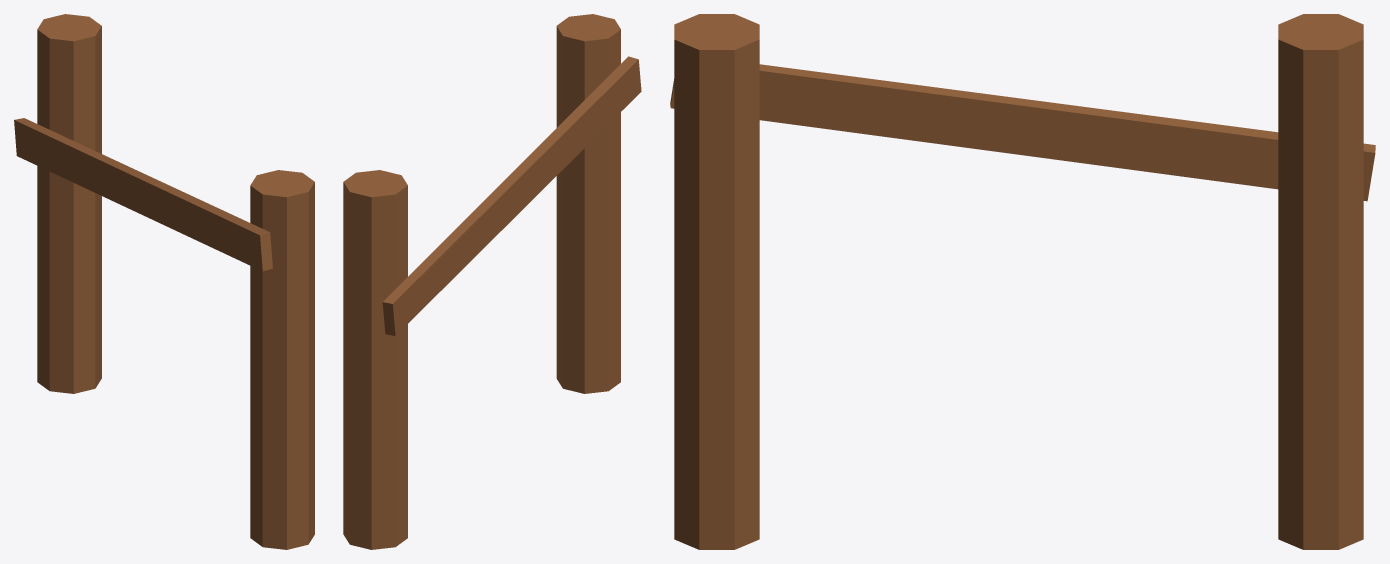
File: Barrier 2.fbx
3 views of the same model, side by side, from view 1: azimuth 30°, elevation 25°; view 2: azimuth 150°, elevation 25°; view 3: azimuth 270°, elevation 25° (orthographic). The views are drawn at different scales.
Visible parts, largest first — view 1: Barrier 2; view 2: Barrier 2; view 3: Barrier 2.
Part boxes in pixels (x1,y1,x2,y2): Barrier 2: (14, 14, 314, 549); Barrier 2: (343, 14, 641, 549); Barrier 2: (670, 14, 1375, 549).
Bounding box in the file's own units: 53.22 × 288 × 368.
